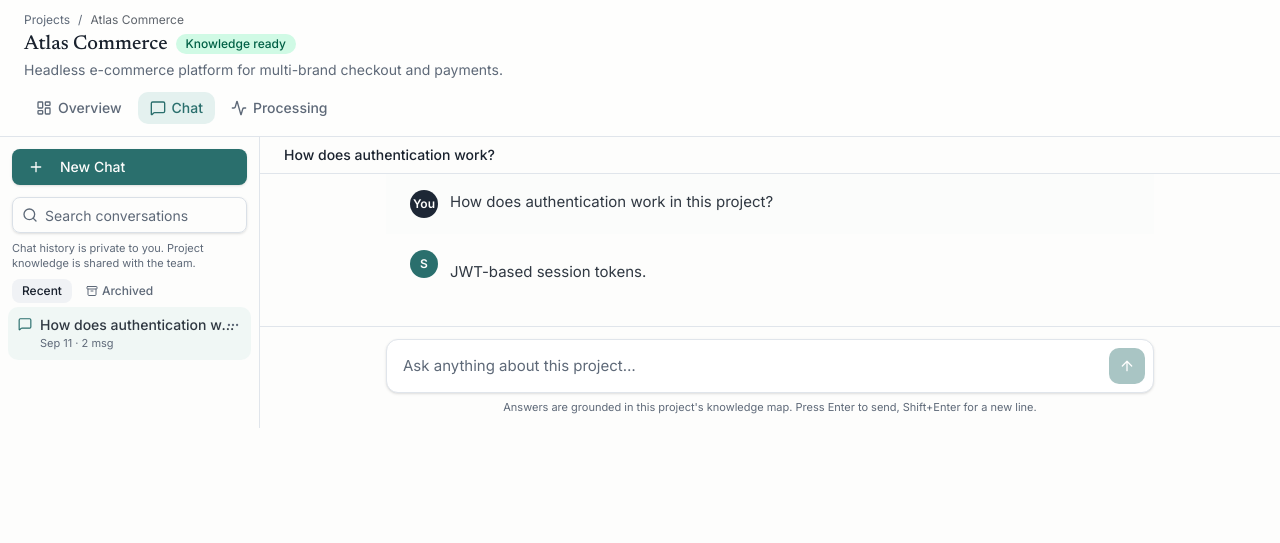
Test: ChatWorkspace › handles 202 queued without streaming
This screenshot has width=1280, height=543.
Expected: the text "JWT-based session tokens." is shown, [450, 262, 646, 281]
Type "Queued ask" into the text box with placeholder "Ask anything about this project…". click: (748, 366)
box: [395, 348, 1101, 384]
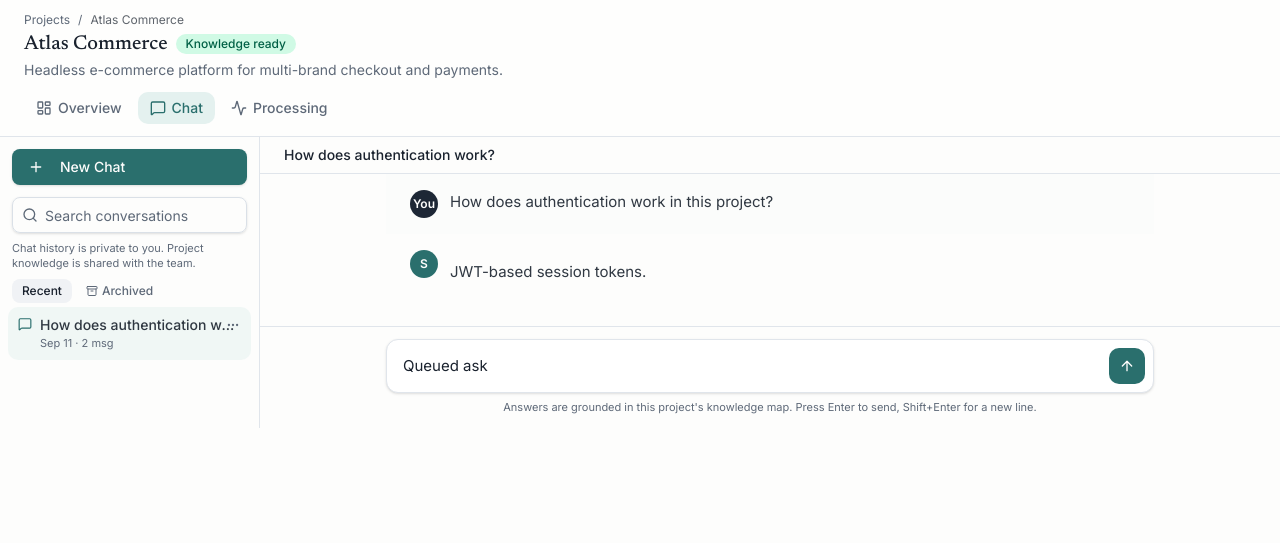
Click the button named "Send". click: (1127, 366)
box: [1109, 348, 1145, 384]
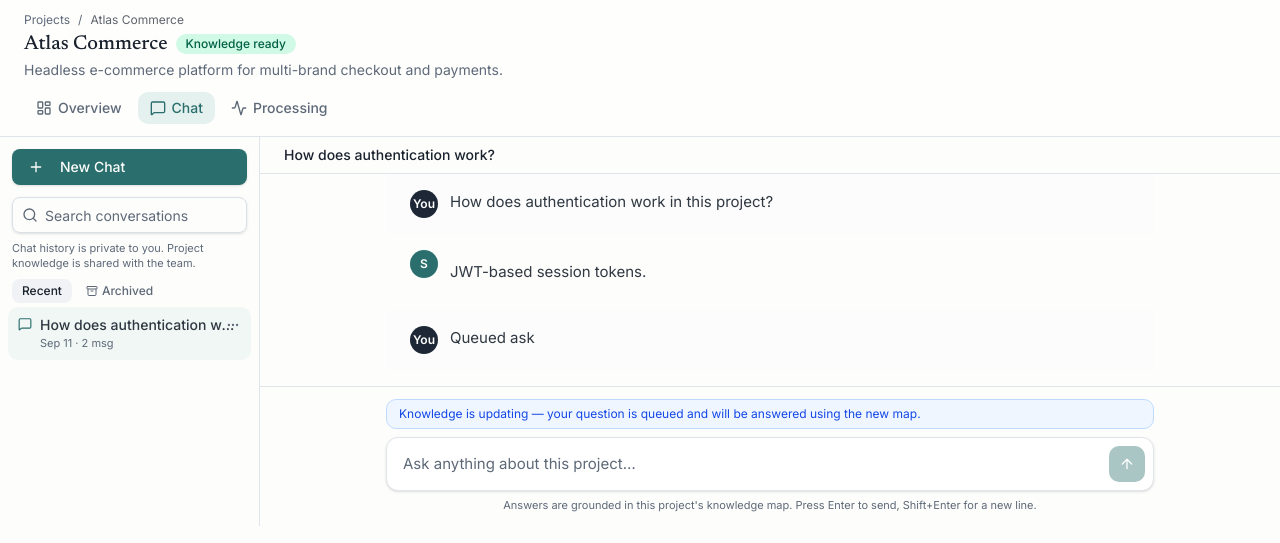
Expected: the text "Queued ask" is shown, [450, 326, 535, 351]
